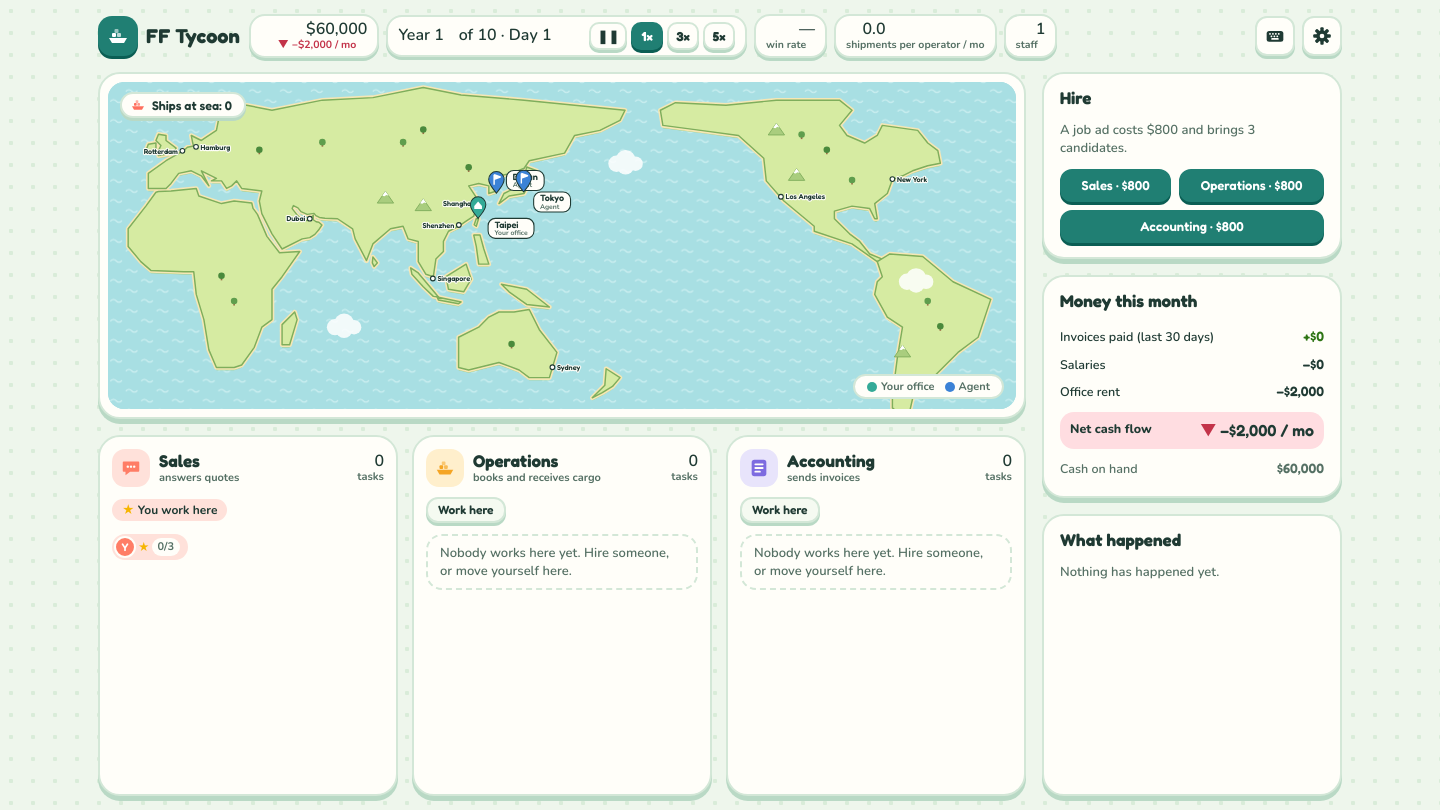
Test case: GameScreen › opening the hiring dialog pauses the clock and closing it restores the speed
Step 1. Click the button "3×" → (683, 36), box [667,22,699,50]
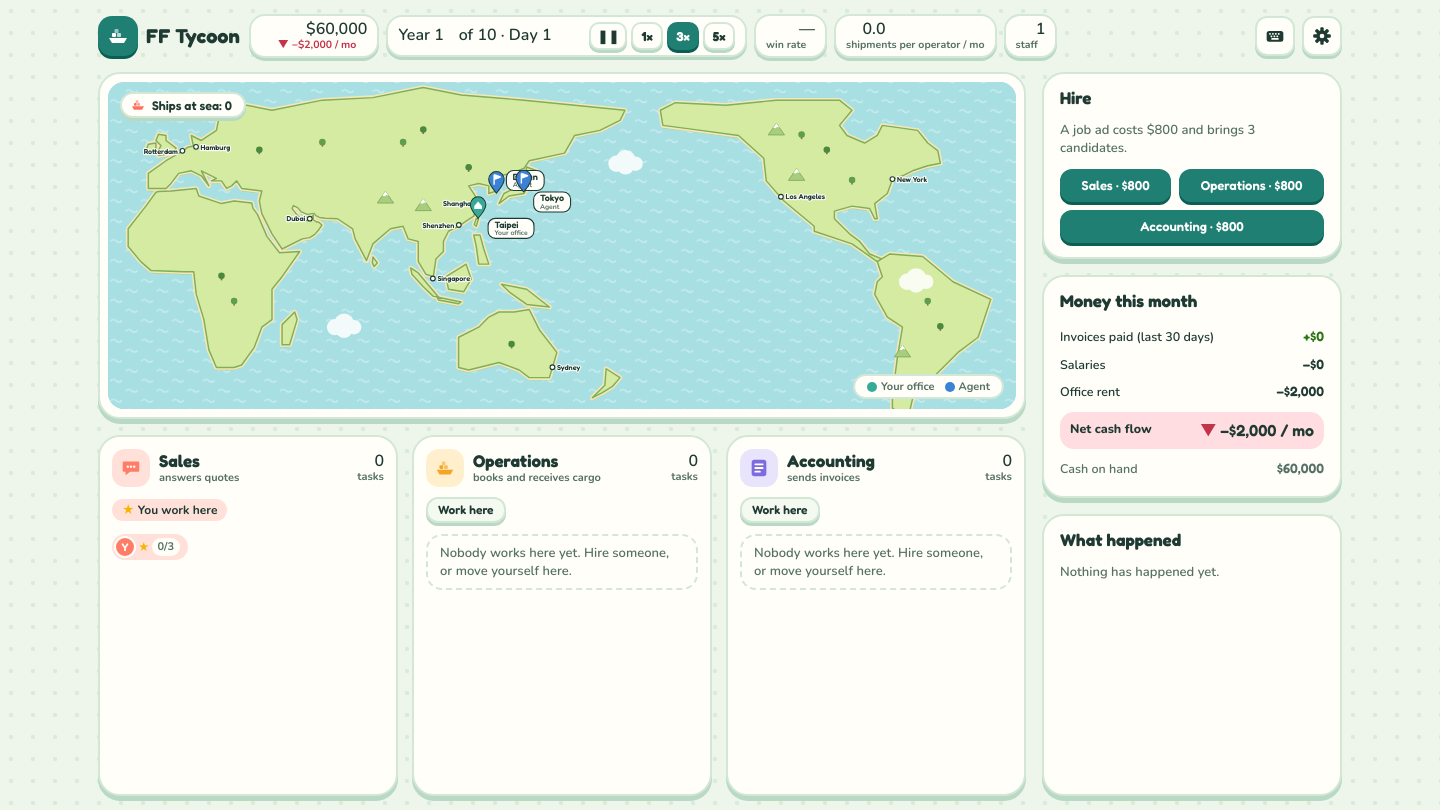
Step 2. Click the button "Sales · $800" → (1116, 185), box [1060,169,1171,202]
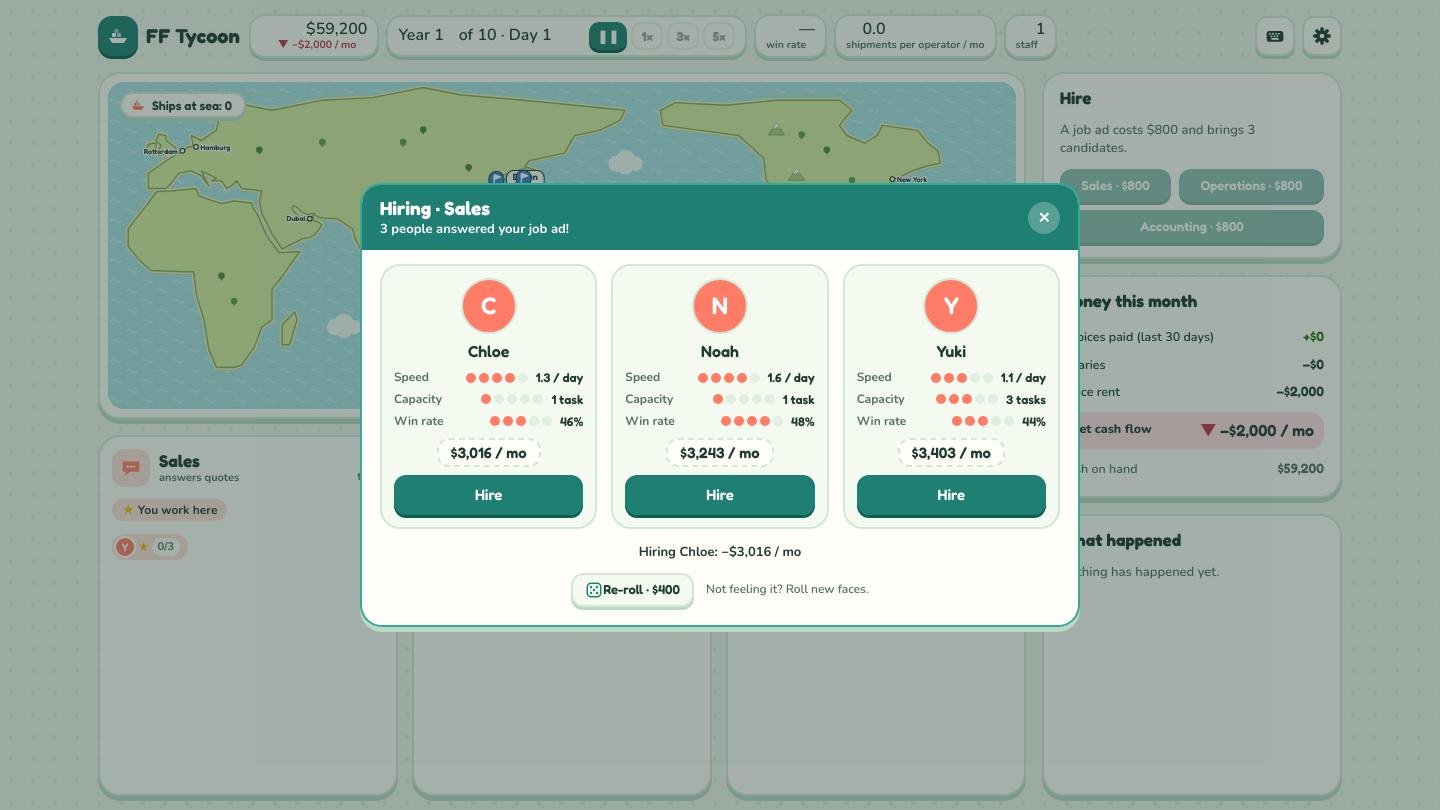
Expected: the dialog "Hiring · Sales" is shown, [360,183,1080,627]
Expected: the button "Operations · $800" is disabled, [1179,169,1324,202]
Step 3. Click the button named "Close" → (1044, 218), box [1028,202,1060,234]
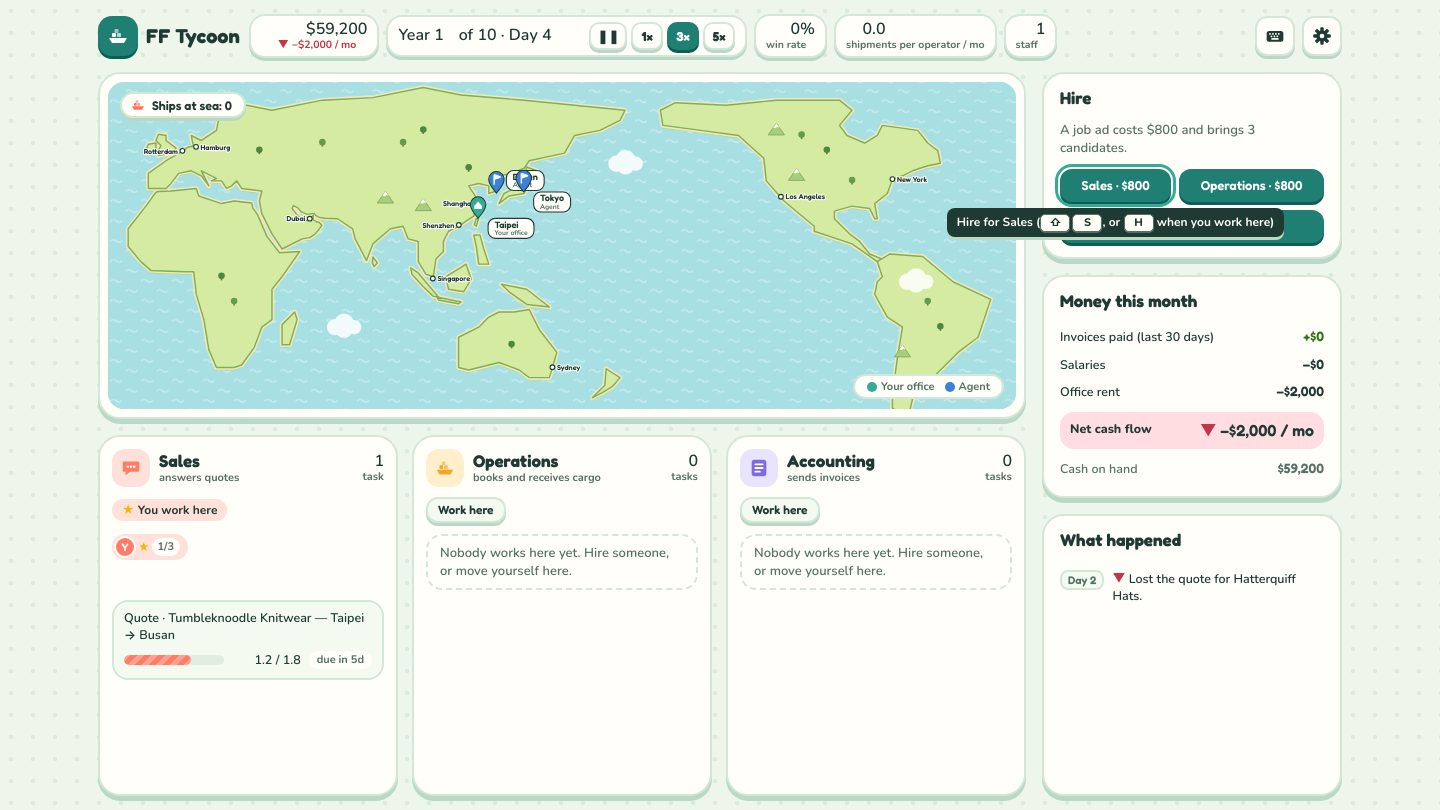
Expected: the dialog is gone
